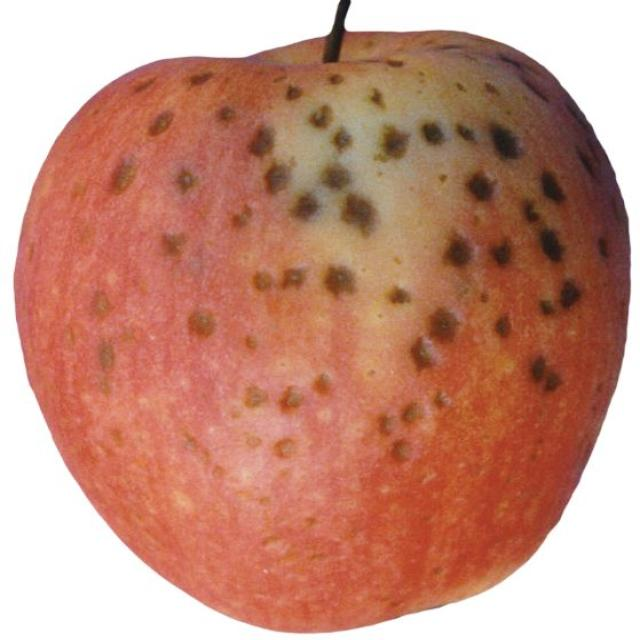Rotten Apple: (19, 22, 623, 630)
